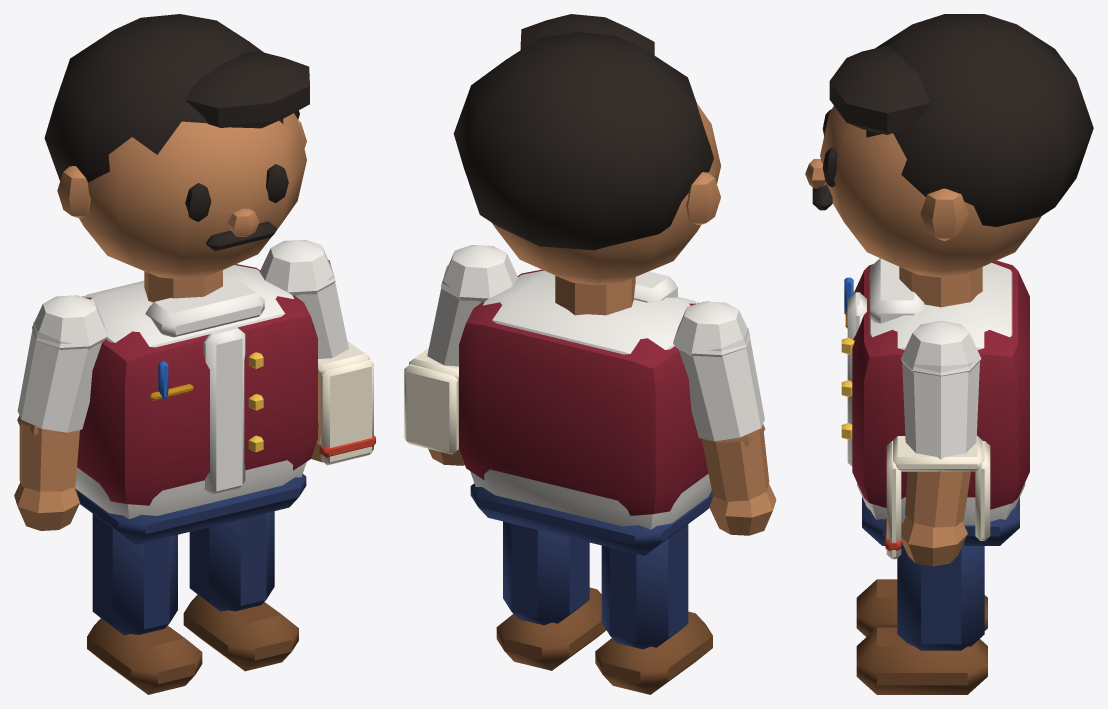
File: raju.glb
The picture shows the model from 3 angles, left to right: view 1: azimuth 30°, elevation 25°; view 2: azimuth 150°, elevation 25°; view 3: azimuth 270°, elevation 25°; orthographic projection. The views are drawn at different scales.
Visible parts, largest first — view 1: body, head, arm_r, leg_r, leg_l, arm_l; view 2: body, head, arm_r, leg_r, leg_l, arm_l; view 3: head, body, arm_l, leg_l, leg_r.
Boxes of the visible parts, x1,y1,x2,y2 form: body: [74, 264, 317, 544]; head: [44, 14, 309, 279]; arm_r: [14, 295, 107, 530]; leg_r: [87, 513, 202, 694]; leg_l: [183, 511, 298, 671]; arm_l: [259, 239, 375, 465]; body: [459, 269, 712, 555]; head: [453, 14, 720, 285]; arm_r: [673, 301, 776, 535]; leg_r: [595, 524, 712, 694]; leg_l: [496, 521, 606, 670]; arm_l: [404, 245, 518, 465]; head: [805, 14, 1093, 277]; body: [841, 258, 1029, 545]; arm_l: [885, 321, 990, 566]; leg_l: [856, 544, 987, 694]; leg_r: [856, 579, 987, 636].
Bounding box in the file's own units: 0.61 × 1.06 × 0.4376.
Materials: 1 (1 with a texture image).
